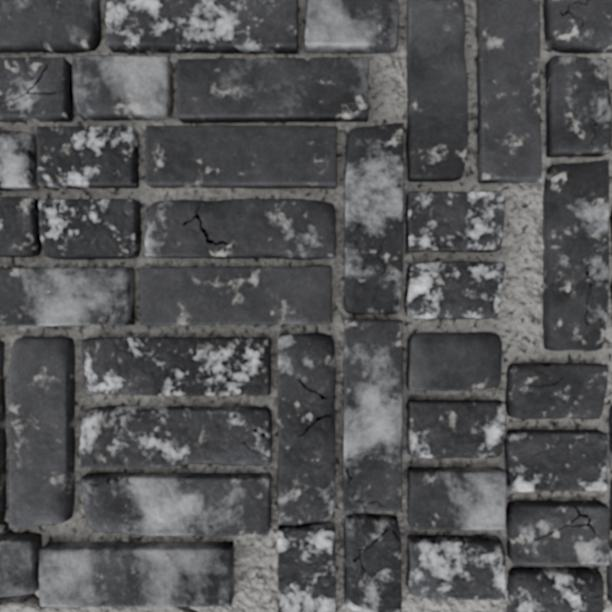brick: (407, 363, 611, 602), (0, 534, 233, 606), (277, 333, 334, 611), (177, 57, 367, 122), (9, 337, 74, 527), (543, 160, 608, 349), (81, 472, 269, 535), (146, 126, 336, 187), (477, 0, 540, 182), (80, 406, 271, 466), (0, 56, 172, 121), (146, 199, 334, 258), (141, 266, 330, 324), (345, 123, 402, 313), (344, 320, 401, 510), (406, 0, 466, 180), (82, 338, 269, 394), (106, 0, 297, 53), (0, 197, 140, 258), (0, 127, 137, 189), (0, 268, 133, 324), (546, 56, 611, 156), (407, 535, 504, 598), (406, 192, 503, 251), (405, 262, 503, 318), (344, 514, 400, 611), (407, 333, 500, 389), (0, 0, 100, 52), (306, 0, 397, 52), (507, 567, 602, 611), (544, 0, 611, 52), (0, 341, 5, 521), (343, 471, 361, 509), (609, 407, 611, 462), (610, 482, 611, 529), (610, 213, 611, 234)
crack: (352, 528, 400, 586), (0, 63, 57, 105), (343, 456, 384, 511), (0, 591, 48, 609), (559, 0, 588, 29), (0, 520, 37, 534), (104, 288, 115, 324), (176, 605, 199, 611), (541, 363, 551, 366), (124, 320, 129, 325)
